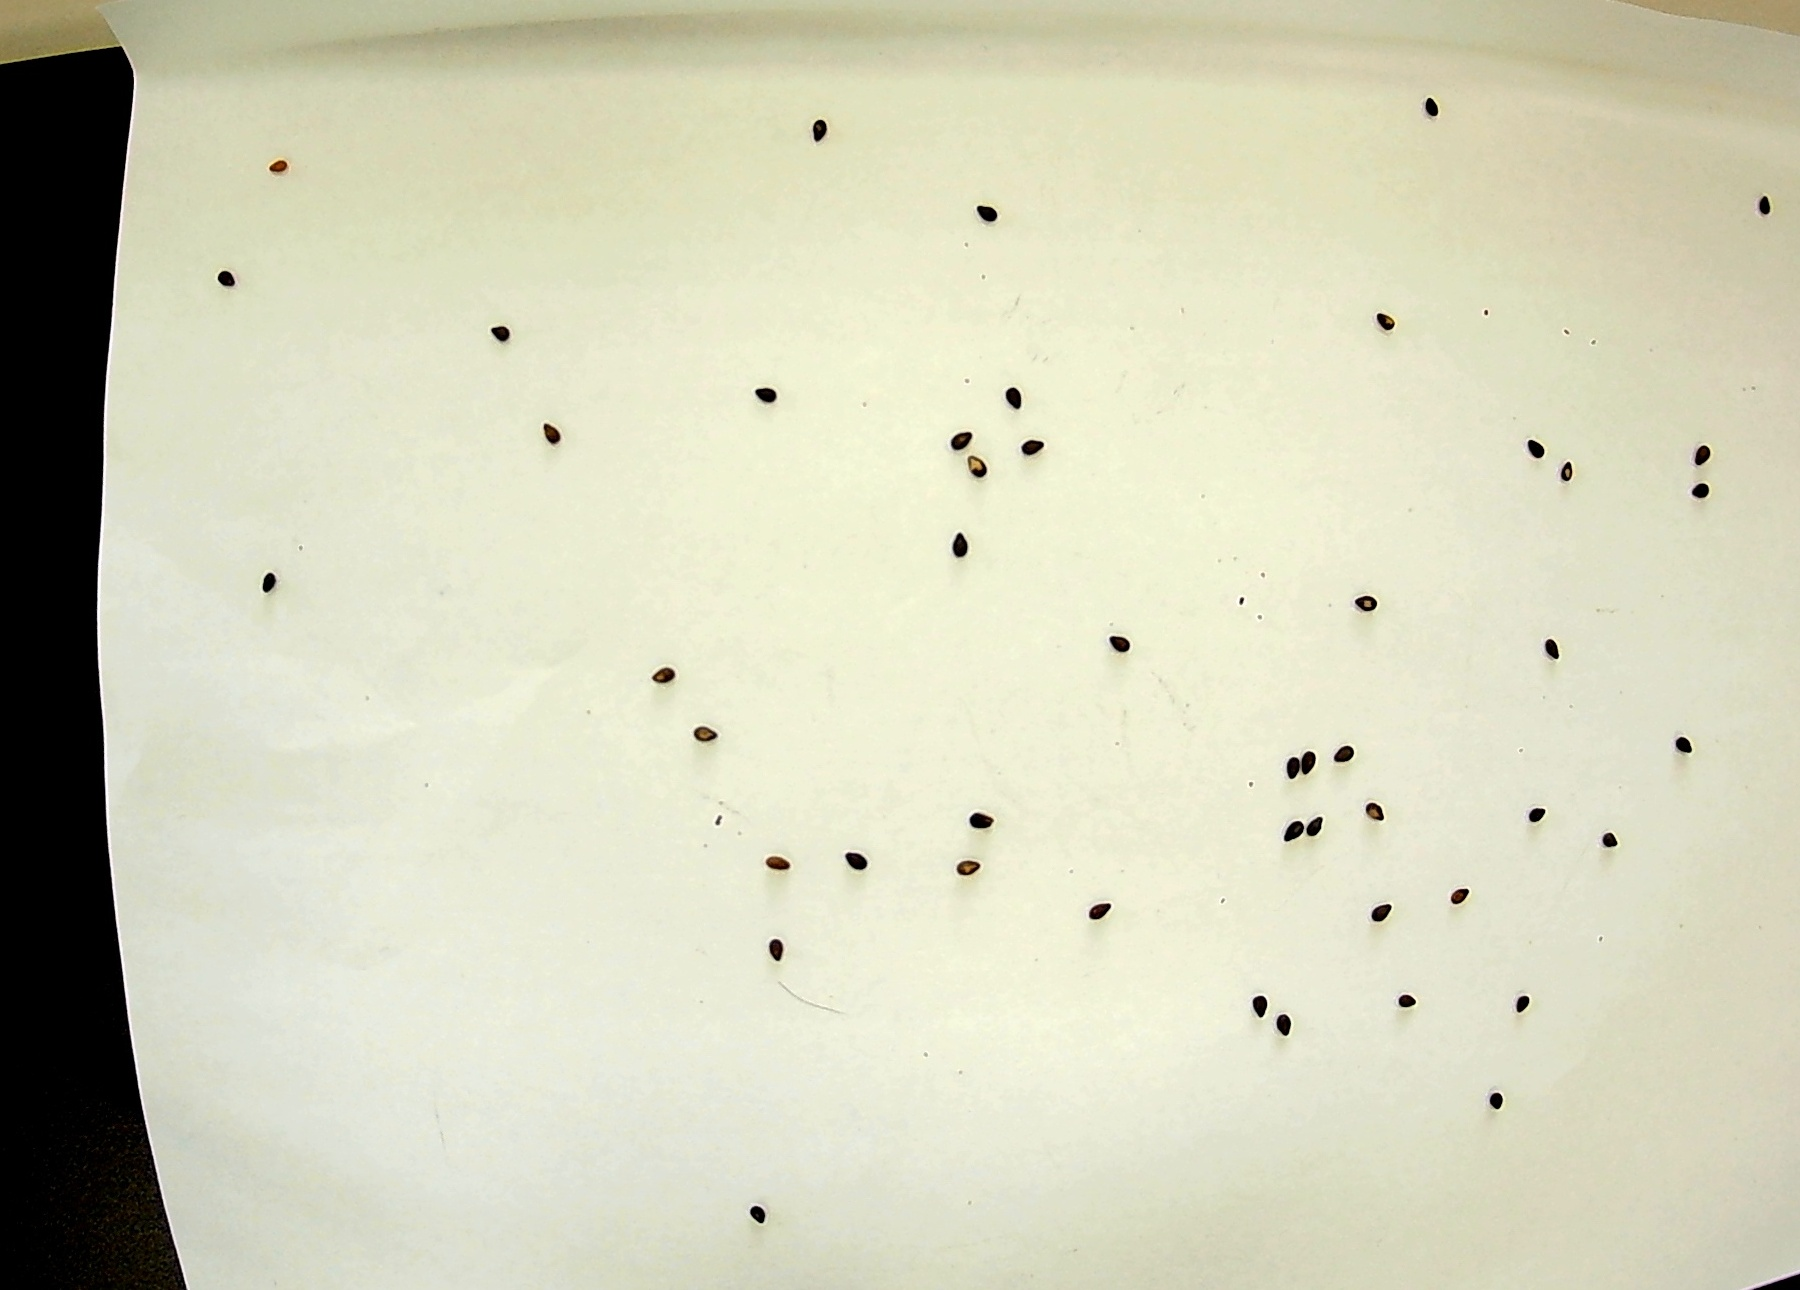sesami: (993, 364, 1033, 415), (960, 799, 1000, 838), (687, 705, 721, 750), (1012, 434, 1058, 468), (1305, 794, 1335, 845), (1369, 313, 1416, 343), (1107, 631, 1140, 674), (1358, 889, 1397, 926), (760, 926, 795, 966), (650, 660, 687, 697), (836, 840, 871, 878), (737, 1194, 767, 1236), (1439, 878, 1482, 907), (486, 318, 518, 357), (763, 840, 795, 878), (1280, 814, 1307, 856), (1535, 635, 1580, 660), (802, 109, 834, 142), (1667, 733, 1702, 764), (1081, 900, 1132, 921), (1487, 1076, 1511, 1120), (212, 267, 253, 292), (260, 561, 287, 598), (1270, 1015, 1312, 1039), (952, 854, 982, 885), (1522, 431, 1552, 464), (1333, 739, 1366, 766), (966, 448, 991, 484), (1751, 191, 1782, 221), (539, 417, 572, 444), (1363, 792, 1388, 825), (971, 202, 1006, 226), (952, 417, 973, 457), (1599, 828, 1627, 857), (1419, 92, 1447, 120), (1694, 443, 1725, 468), (1684, 484, 1723, 504), (1352, 593, 1390, 613), (1298, 743, 1316, 783), (953, 519, 970, 563), (1506, 987, 1529, 1016), (1282, 747, 1300, 785), (1395, 986, 1418, 1015), (749, 384, 776, 408), (1561, 459, 1584, 487), (1527, 807, 1554, 828), (1247, 993, 1266, 1023), (267, 159, 293, 179)
